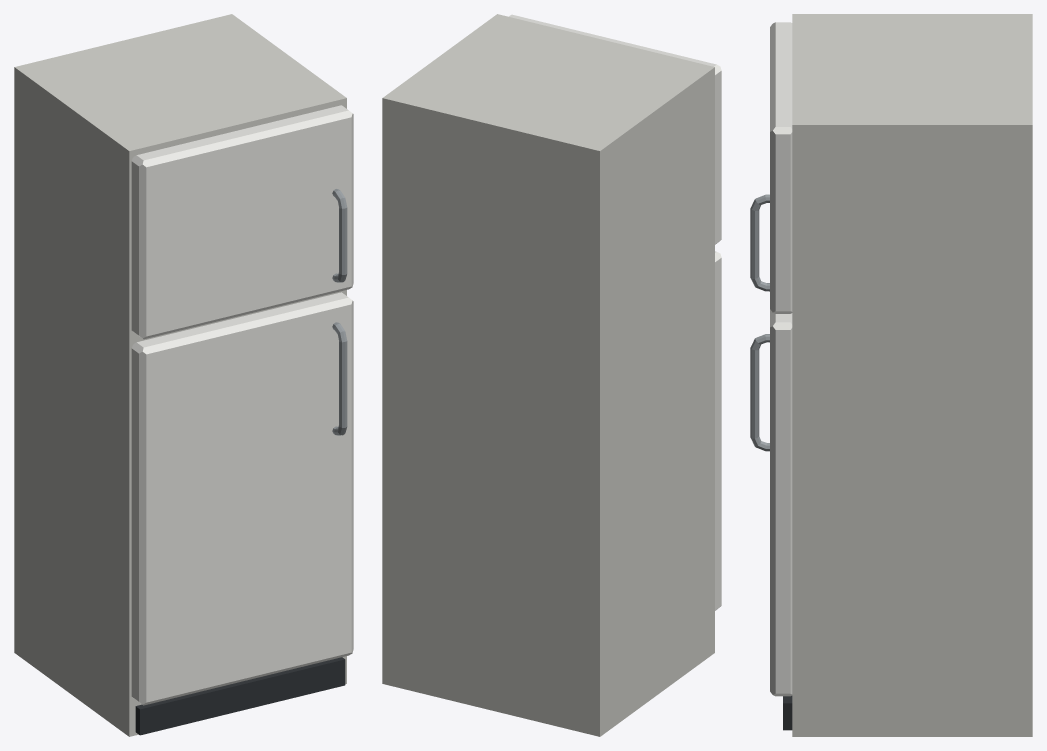
The model's file is frigo.glb.
The picture shows the model from 3 angles, left to right: view 1: azimuth 30°, elevation 25°; view 2: azimuth 150°, elevation 25°; view 3: azimuth 270°, elevation 25°; orthographic projection. The views are drawn at different scales.
Visible parts, largest first — view 1: cabinet, door_low, door_top, grille, handle_low, handle_top; view 2: cabinet, door_low, door_top; view 3: cabinet, door_low, door_top, handle_low, handle_top.
Boxes of the visible parts, x1,y1,x2,y2 form: cabinet: (14,14,346,736); door_low: (131,292,353,705); door_top: (131,105,353,339); grille: (135,657,345,735); handle_low: (332,322,347,435); handle_top: (332,189,347,282); cabinet: (382,14,714,736); door_low: (715,251,721,610); door_top: (509,14,721,244); cabinet: (792,14,1032,736); door_low: (770,309,792,696); door_top: (770,22,792,313); handle_low: (750,334,769,451); handle_top: (750,194,769,291).
Size of the model in its own units: 0.7 by 1.8 by 0.7518.
4 materials, 4 textured.
